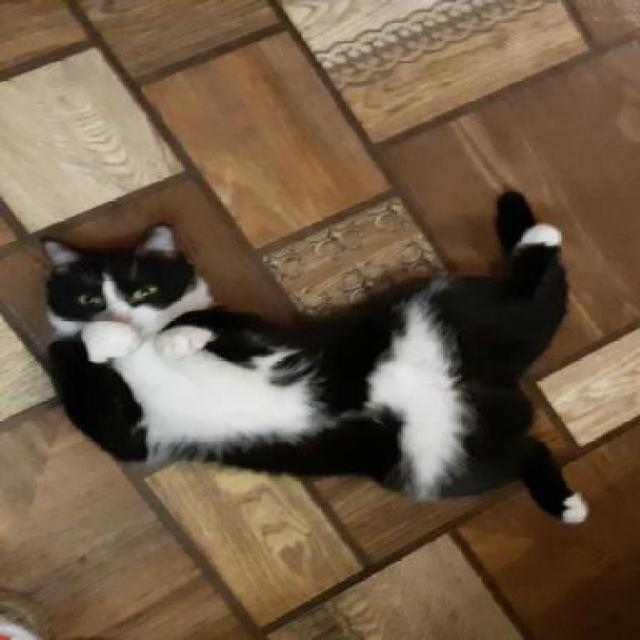cat: (6, 201, 603, 510)
